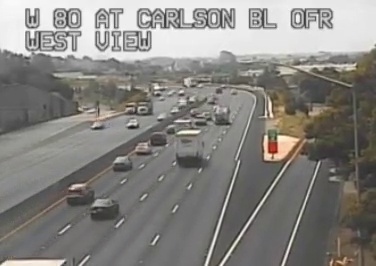car: (91, 199, 119, 218), (67, 184, 93, 203), (112, 156, 132, 170), (150, 132, 165, 146), (135, 142, 151, 153)
small-truck: (176, 130, 202, 162)
